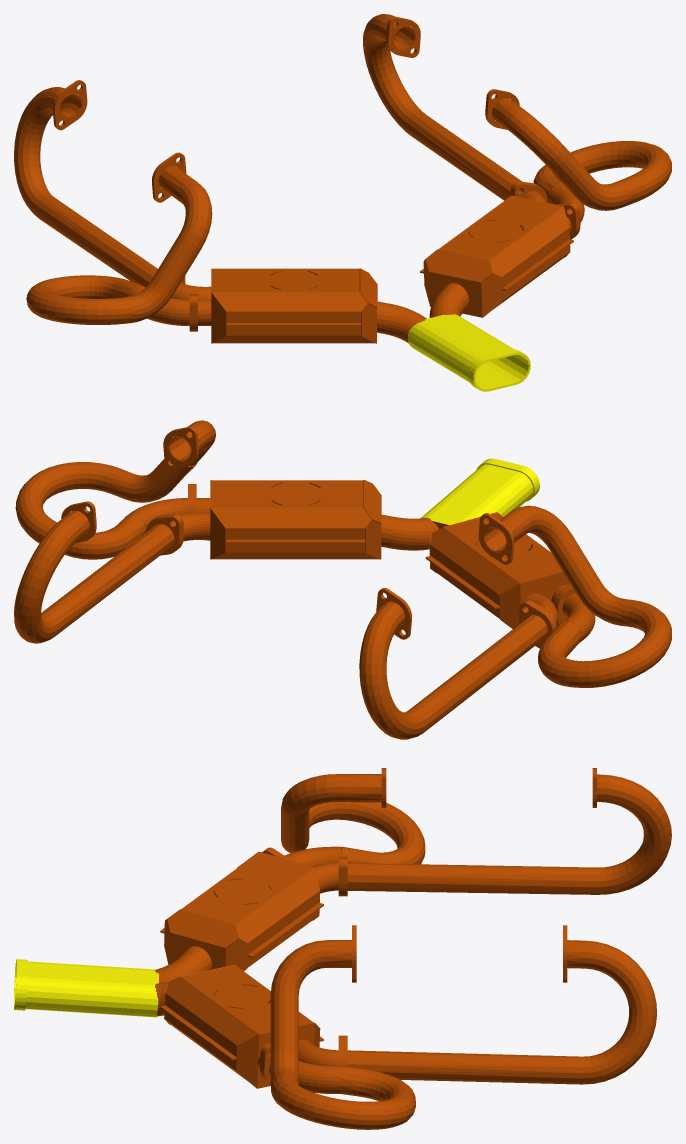
3 views of the same model, one above another, from view 1: azimuth 30°, elevation 25°; view 2: azimuth 150°, elevation 25°; view 3: azimuth 270°, elevation 25° (orthographic). The views are drawn at different scales.
Visible parts, largest first — view 1: _Mesh; view 2: _Mesh; view 3: _Mesh.
Boxes of the visible parts, box(x1,y1,x2,y2) form: _Mesh: box(14, 14, 671, 391); _Mesh: box(14, 420, 671, 739); _Mesh: box(14, 768, 671, 1129).
Size of the model in its own units: 1.03 by 0.2405 by 0.8884.
